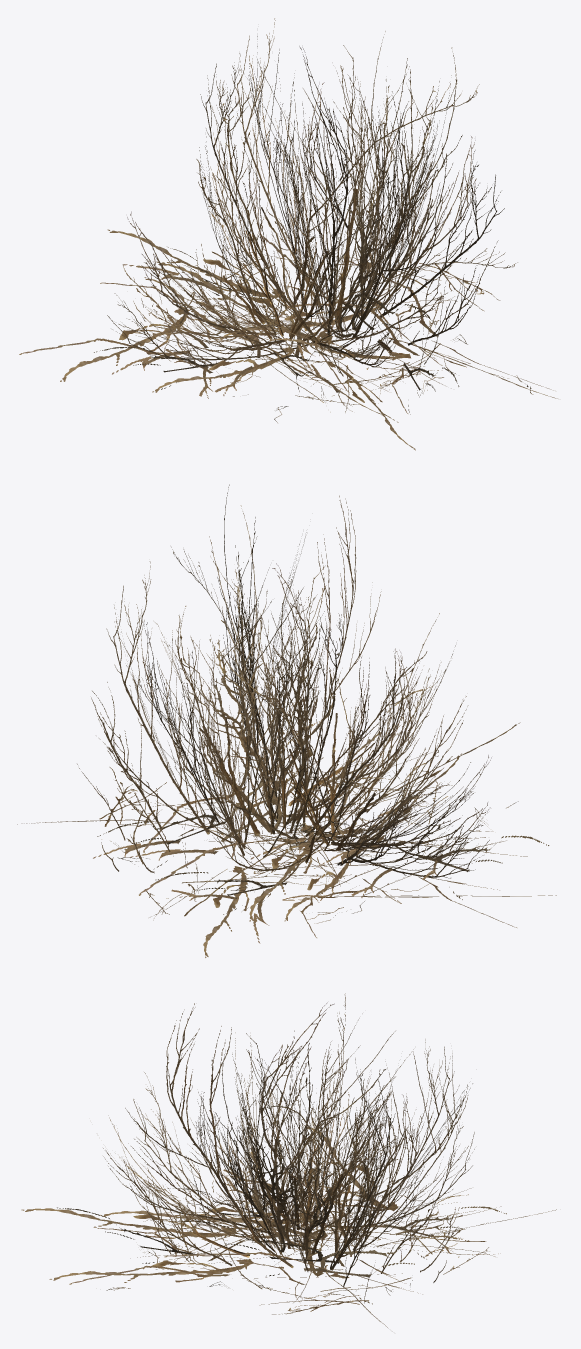
Rendered from SM_Weed_3.fbx.
3 views of the same model, one above another, from view 1: azimuth 30°, elevation 25°; view 2: azimuth 150°, elevation 25°; view 3: azimuth 270°, elevation 25° (orthographic). The views are drawn at different scales.
Visible parts, largest first — view 1: SM_Weed_3_LOD0; view 2: SM_Weed_3_LOD0; view 3: SM_Weed_3_LOD0.
Part boxes in pixels (x1=…): SM_Weed_3_LOD0: x1=19, y1=18, x2=557, y2=450; SM_Weed_3_LOD0: x1=17, y1=484, x2=556, y2=957; SM_Weed_3_LOD0: x1=21, y1=993, x2=556, y2=1331.
Bounding box in the file's own units: 104 × 118 × 65.85.
Materials: 1 (1 with a texture image).
